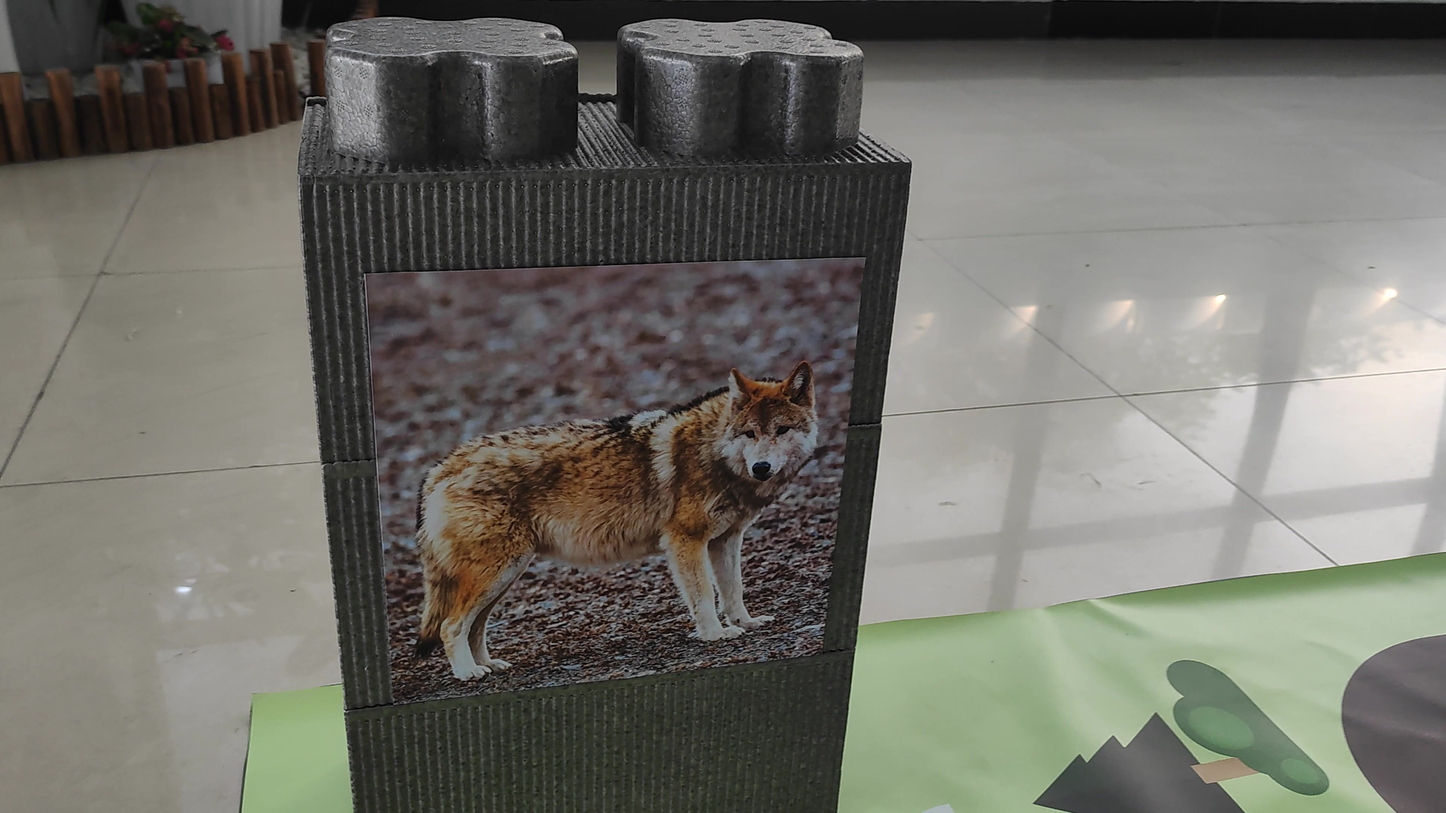wolf: (405, 286, 824, 685)
